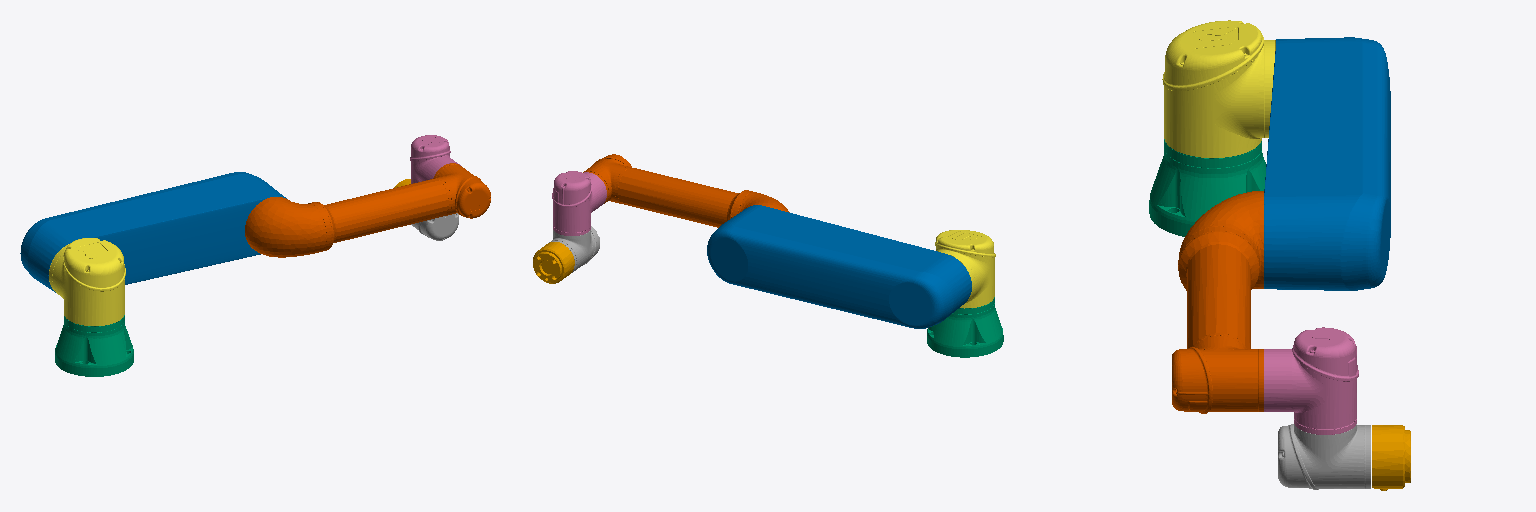
The robot description file, URDF, robot "ur5e":
<?xml version="1.0" ?>
<!-- =================================================================================== -->
<!-- |    This document was autogenerated by xacro from ur.urdf.xacro                  | -->
<!-- |    EDITING THIS FILE BY HAND IS NOT RECOMMENDED                                 | -->
<!-- =================================================================================== -->
<robot name="ur5e">
  <!--
    Base UR robot series xacro macro.

    NOTE this is NOT a URDF. It cannot directly be loaded by consumers
    expecting a flattened '.urdf' file. See the top-level '.xacro' for that
    (but note that .xacro must still be processed by the xacro command).

    This file models the base kinematic chain of a UR robot, which then gets
    parameterised by various configuration files to convert it into a UR3(e),
    UR5(e), UR10(e) or UR16e.

    NOTE the default kinematic parameters (i.e., link lengths, frame locations,
    offsets, etc) do not correspond to any particular robot. They are defaults
    only. There WILL be non-zero offsets between the Forward Kinematics results
    in TF (i.e., robot_state_publisher) and the values reported by the Teach
    Pendant.

    For accurate (and robot-specific) transforms, the 'kinematics_parameters_file'
    parameter MUST point to a .yaml file containing the appropriate values for
    the targeted robot.

    If using the UniversalRobots/Universal_Robots_ROS_Driver, follow the steps
    described in the readme of that repository to extract the kinematic
    calibration from the controller and generate the required .yaml file.

    Main author of the migration to yaml configs [author].

    Contributors to previous versions (in no particular order)

     - [author]
     - [author]
     - [author]
     - [author]
     - [author]
     - [author]
     - [author]
     - [author]
     - [author]
     - [author]
     - [author]
     - [author]
     - [author]
     - [author]
     - [author]
     - [author]
     - [author]
     - [author]
     - [author]
  -->
  <!-- create link fixed to the "world" -->
  <link name="world"/>
  <!-- links -  main serial chain -->
  <link name="base_link"/>
  <link name="base_link_inertia">
    <visual>
      <origin rpy="0 0 3.141592653589793" xyz="0 0 0"/>
      <geometry>
        <mesh filename="package://ur_description/meshes/ur5e/visual/base.obj"/>
      </geometry>
    </visual>
    <collision>
      <origin rpy="0 0 3.141592653589793" xyz="0 0 0"/>
      <geometry>
        <mesh filename="package://ur_description/meshes/ur5e/visual/base.obj"/>
      </geometry>
    </collision>
    <inertial>
      <mass value="4.0"/>
      <origin rpy="0 0 0" xyz="0 0 0"/>
      <inertia ixx="0.00443333156" ixy="0.0" ixz="0.0" iyy="0.00443333156" iyz="0.0" izz="0.0072"/>
    </inertial>
  </link>
  <link name="shoulder_link">
    <visual>
      <origin rpy="0 0 3.141592653589793" xyz="0 0 0"/>
      <geometry>
        <mesh filename="package://ur_description/meshes/ur5e/visual/shoulder.obj"/>
      </geometry>
    </visual>
    <collision>
      <origin rpy="0 0 3.141592653589793" xyz="0 0 0"/>
      <geometry>
        <mesh filename="package://ur_description/meshes/ur5e/collision/shoulder.obj"/>
      </geometry>
    </collision>
    <inertial>
      <mass value="3.761"/>
      <origin rpy="1.570796326794897 0 0" xyz="0.0 -0.00193 -0.02561"/>
      <inertia ixx="0.0070021" ixy="7.3e-07" ixz="-1.053e-05" iyy="0.00648091" iyz="0.00049994" izz="0.00657286"/>
    </inertial>
  </link>
  <link name="upper_arm_link">
    <visual>
      <origin rpy="1.5707963267948966 0 -1.5707963267948966" xyz="0 0 0.138"/>
      <geometry>
        <mesh filename="package://ur_description/meshes/ur5e/visual/upperarm.obj"/>
      </geometry>
    </visual>
    <collision>
      <origin rpy="1.5707963267948966 0 -1.5707963267948966" xyz="0 0 0.138"/>
      <geometry>
        <mesh filename="package://ur_description/meshes/ur5e/collision/upperarm.obj"/>
      </geometry>
    </collision>
    <inertial>
      <mass value="8.058"/>
      <origin rpy="0 0 0" xyz="-0.2125 0.0 0.11336"/>
      <inertia ixx="0.01505885" ixy="-5.4e-05" ixz="5.63e-06" iyy="0.33388086" iyz="-1.81e-06" izz="0.33247207"/>
    </inertial>
  </link>
  <link name="forearm_link">
    <visual>
      <origin rpy="1.5707963267948966 0 -1.5707963267948966" xyz="0 0 0.007"/>
      <geometry>
        <mesh filename="package://ur_description/meshes/ur5e/visual/forearm.obj"/>
      </geometry>
    </visual>
    <collision>
      <origin rpy="1.5707963267948966 0 -1.5707963267948966" xyz="0 0 0.007"/>
      <geometry>
        <mesh filename="package://ur_description/meshes/ur5e/collision/forearm.obj"/>
      </geometry>
    </collision>
    <inertial>
      <mass value="2.846"/>
      <origin rpy="0 0 0" xyz="-0.2422 0.0 0.0265"/>
      <inertia ixx="0.00399632" ixy="-1.365e-05" ixz="0.00137272" iyy="0.07879254" iyz="-6.6e-06" izz="0.0784851"/>
    </inertial>
  </link>
  <link name="wrist_1_link">
    <visual>
      <origin rpy="1.5707963267948966 0 0" xyz="0 0 -0.127"/>
      <geometry>
        <mesh filename="package://ur_description/meshes/ur5e/visual/wrist1.obj"/>
      </geometry>
    </visual>
    <collision>
      <origin rpy="1.5707963267948966 0 0" xyz="0 0 -0.127"/>
      <geometry>
        <mesh filename="package://ur_description/meshes/ur5e/collision/wrist1.obj"/>
      </geometry>
    </collision>
    <inertial>
      <mass value="1.37"/>
      <origin rpy="1.570796326794897 0 0" xyz="0.0 -0.01634 -0.0018"/>
      <inertia ixx="0.00165491" ixy="-2.82e-06" ixz="-4.38e-06" iyy="0.00135962" iyz="0.00010157" izz="0.00126279"/>
    </inertial>
  </link>
  <link name="wrist_2_link">
    <visual>
      <origin rpy="0 0 0" xyz="0 0 -0.0997"/>
      <geometry>
        <mesh filename="package://ur_description/meshes/ur5e/visual/wrist2.obj"/>
      </geometry>
    </visual>
    <collision>
      <origin rpy="0 0 0" xyz="0 0 -0.0997"/>
      <geometry>
        <mesh filename="package://ur_description/meshes/ur5e/collision/wrist2.obj"/>
      </geometry>
    </collision>
    <inertial>
      <mass value="1.3"/>
      <origin rpy="-1.570796326794897 0 0" xyz="0.0 0.01634 -0.0018"/>
      <inertia ixx="0.00135617" ixy="-2.74e-06" ixz="4.44e-06" iyy="0.00127827" iyz="-5.048e-05" izz="0.00096614"/>
    </inertial>
  </link>
  <link name="wrist_3_link">
    <visual>
      <origin rpy="1.5707963267948966 0 0" xyz="0 0 -0.0989"/>
      <geometry>
        <mesh filename="package://ur_description/meshes/ur5e/visual/wrist3.obj"/>
      </geometry>
    </visual>
    <collision>
      <origin rpy="1.5707963267948966 0 0" xyz="0 0 -0.0989"/>
      <geometry>
        <mesh filename="package://ur_description/meshes/ur5e/collision/wrist3.obj"/>
      </geometry>
    </collision>
    <inertial>
      <mass value="0.365"/>
      <origin rpy="0 0 0" xyz="0.0 0.0 -0.001159"/>
      <inertia ixx="0.00018694" ixy="6e-08" ixz="-1.7e-07" iyy="0.00018908" iyz="-9.2e-07" izz="0.00025756"/>
    </inertial>
  </link>
  <!-- base_joint fixes base_link to the environment -->
  <joint name="base_joint" type="fixed">
    <origin rpy="0 0 0" xyz="0 0 0"/>
    <parent link="world"/>
    <child link="base_link"/>
  </joint>
  <!-- joints - main serial chain -->
  <joint name="base_link-base_link_inertia" type="fixed">
    <parent link="base_link"/>
    <child link="base_link_inertia"/>
    <!-- 'base_link' is REP-103 aligned (so X+ forward), while the internal
           frames of the robot/controller have X+ pointing backwards.
           Use the joint between 'base_link' and 'base_link_inertia' (a dummy
           link/frame) to introduce the necessary rotation over Z (of pi rad).
      -->
    <origin rpy="0 0 3.141592653589793" xyz="0 0 0"/>
  </joint>
  <joint name="shoulder_pan_joint" type="revolute">
    <parent link="base_link_inertia"/>
    <child link="shoulder_link"/>
    <origin rpy="0 0 0" xyz="0 0 0.1625"/>
    <axis xyz="0 0 1"/>
    <limit effort="150.0" lower="-6.283185307179586" upper="6.283185307179586" velocity="3.141592653589793"/>
    <dynamics damping="0" friction="0"/>
  </joint>
  <joint name="shoulder_lift_joint" type="revolute">
    <parent link="shoulder_link"/>
    <child link="upper_arm_link"/>
    <origin rpy="1.570796327 0 0" xyz="0 0 0"/>
    <axis xyz="0 0 1"/>
    <limit effort="150.0" lower="-6.283185307179586" upper="6.283185307179586" velocity="3.141592653589793"/>
    <dynamics damping="0" friction="0"/>
  </joint>
  <joint name="elbow_joint" type="revolute">
    <parent link="upper_arm_link"/>
    <child link="forearm_link"/>
    <origin rpy="0 0 0" xyz="-0.425 0 0"/>
    <axis xyz="0 0 1"/>
    <limit effort="150.0" lower="-3.141592653589793" upper="3.141592653589793" velocity="3.141592653589793"/>
    <dynamics damping="0" friction="0"/>
  </joint>
  <joint name="wrist_1_joint" type="revolute">
    <parent link="forearm_link"/>
    <child link="wrist_1_link"/>
    <origin rpy="0 0 0" xyz="-0.3922 0 0.1333"/>
    <axis xyz="0 0 1"/>
    <limit effort="28.0" lower="-6.283185307179586" upper="6.283185307179586" velocity="3.141592653589793"/>
    <dynamics damping="0" friction="0"/>
  </joint>
  <joint name="wrist_2_joint" type="revolute">
    <parent link="wrist_1_link"/>
    <child link="wrist_2_link"/>
    <origin rpy="1.570796327 0 0" xyz="0 -0.0997 -2.044881182297852e-11"/>
    <axis xyz="0 0 1"/>
    <limit effort="28.0" lower="-6.283185307179586" upper="6.283185307179586" velocity="3.141592653589793"/>
    <dynamics damping="0" friction="0"/>
  </joint>
  <joint name="wrist_3_joint" type="revolute">
    <parent link="wrist_2_link"/>
    <child link="wrist_3_link"/>
    <origin rpy="1.570796326589793 3.141592653589793 3.141592653589793" xyz="0 0.0996 -2.042830148012698e-11"/>
    <axis xyz="0 0 1"/>
    <limit effort="28.0" lower="-6.283185307179586" upper="6.283185307179586" velocity="3.141592653589793"/>
    <dynamics damping="0" friction="0"/>
  </joint>
  <transmission name="shoulder_pan_trans">
    <type>transmission_interface/SimpleTransmission</type>
    <joint name="shoulder_pan_joint">
      <hardwareInterface>hardware_interface/PositionJointInterface</hardwareInterface>
    </joint>
    <actuator name="shoulder_pan_motor">
      <mechanicalReduction>1</mechanicalReduction>
    </actuator>
  </transmission>
  <transmission name="shoulder_lift_trans">
    <type>transmission_interface/SimpleTransmission</type>
    <joint name="shoulder_lift_joint">
      <hardwareInterface>hardware_interface/PositionJointInterface</hardwareInterface>
    </joint>
    <actuator name="shoulder_lift_motor">
      <mechanicalReduction>1</mechanicalReduction>
    </actuator>
  </transmission>
  <transmission name="elbow_trans">
    <type>transmission_interface/SimpleTransmission</type>
    <joint name="elbow_joint">
      <hardwareInterface>hardware_interface/PositionJointInterface</hardwareInterface>
    </joint>
    <actuator name="elbow_motor">
      <mechanicalReduction>1</mechanicalReduction>
    </actuator>
  </transmission>
  <transmission name="wrist_1_trans">
    <type>transmission_interface/SimpleTransmission</type>
    <joint name="wrist_1_joint">
      <hardwareInterface>hardware_interface/PositionJointInterface</hardwareInterface>
    </joint>
    <actuator name="wrist_1_motor">
      <mechanicalReduction>1</mechanicalReduction>
    </actuator>
  </transmission>
  <transmission name="wrist_2_trans">
    <type>transmission_interface/SimpleTransmission</type>
    <joint name="wrist_2_joint">
      <hardwareInterface>hardware_interface/PositionJointInterface</hardwareInterface>
    </joint>
    <actuator name="wrist_2_motor">
      <mechanicalReduction>1</mechanicalReduction>
    </actuator>
  </transmission>
  <transmission name="wrist_3_trans">
    <type>transmission_interface/SimpleTransmission</type>
    <joint name="wrist_3_joint">
      <hardwareInterface>hardware_interface/PositionJointInterface</hardwareInterface>
    </joint>`
    <actuator name="wrist_3_motor">
      <mechanicalReduction>1</mechanicalReduction>
    </actuator>
  </transmission>
  <link name="ft_frame"/>
  <joint name="wrist_3_link-ft_frame" type="fixed">
    <parent link="wrist_3_link"/>
    <child link="ft_frame"/>
    <origin rpy="3.141592653589793 0 0" xyz="0 0 0"/>
  </joint>
  <!-- ROS-Industrial 'base' frame - base_link to UR 'Base' Coordinates transform -->
  <link name="base"/>
  <joint name="base_link-base_fixed_joint" type="fixed">
    <!-- Note the rotation over Z of pi radians - as base_link is REP-103
           aligned (i.e., has X+ forward, Y+ left and Z+ up), this is needed
           to correctly align 'base' with the 'Base' coordinate system of
           the UR controller.
      -->
    <origin rpy="0 0 3.141592653589793" xyz="0 0 0"/>
    <parent link="base_link"/>
    <child link="base"/>
  </joint>
  <!-- ROS-Industrial 'flange' frame - attachment point for EEF models -->
  <link name="flange"/>
  <joint name="wrist_3-flange" type="fixed">
    <parent link="wrist_3_link"/>
    <child link="flange"/>
    <origin rpy="0 -1.5707963267948966 -1.5707963267948966" xyz="0 0 0"/>
  </joint>
  <!-- ROS-Industrial 'tool0' frame - all-zeros tool frame -->
  <link name="tool0"/>
  <joint name="flange-tool0" type="fixed">
    <!-- default toolframe - X+ left, Y+ up, Z+ front -->
    <origin rpy="1.5707963267948966 0 1.5707963267948966" xyz="0 0 0"/>
    <parent link="flange"/>
    <child link="tool0"/>
  </joint>
</robot>

--- Render facts (derived) ---
The picture shows the robot from 3 angles, left to right: view 1: azimuth 30°, elevation 25°; view 2: azimuth 150°, elevation 25°; view 3: azimuth 270°, elevation 25°; orthographic projection.
Robot: ur5e — 13 links, 12 joints (6 revolute, 6 fixed); root link world; default pose: every joint at zero.
Visible links, largest first — view 1: upper_arm_link, forearm_link, shoulder_link, base_link_inertia, wrist_1_link, wrist_2_link; view 2: upper_arm_link, forearm_link, base_link_inertia, wrist_1_link, shoulder_link, wrist_3_link, wrist_2_link; view 3: upper_arm_link, forearm_link, shoulder_link, wrist_1_link, base_link_inertia, wrist_2_link, wrist_3_link.
Boxes of the visible links, <box> form: upper_arm_link: <box>20,172,286,292</box>; forearm_link: <box>245,163,490,257</box>; shoulder_link: <box>49,238,125,325</box>; base_link_inertia: <box>55,315,133,376</box>; wrist_1_link: <box>410,135,460,183</box>; wrist_2_link: <box>411,213,458,240</box>; upper_arm_link: <box>707,205,971,328</box>; forearm_link: <box>583,154,789,227</box>; base_link_inertia: <box>927,297,1003,357</box>; wrist_1_link: <box>552,171,606,235</box>; shoulder_link: <box>935,230,995,308</box>; wrist_3_link: <box>533,242,574,283</box>; wrist_2_link: <box>549,226,599,272</box>; upper_arm_link: <box>1264,37,1390,290</box>; forearm_link: <box>1172,191,1263,413</box>; shoulder_link: <box>1162,20,1275,157</box>; wrist_1_link: <box>1264,327,1358,434</box>; base_link_inertia: <box>1149,139,1265,236</box>; wrist_2_link: <box>1278,424,1370,489</box>; wrist_3_link: <box>1372,425,1410,490</box>.
Bounding box of the posed robot: 0.932 × 0.3085 × 0.234 m (x, y, z).
7 mesh visuals loaded from 7 distinct referenced files (7 OBJ).